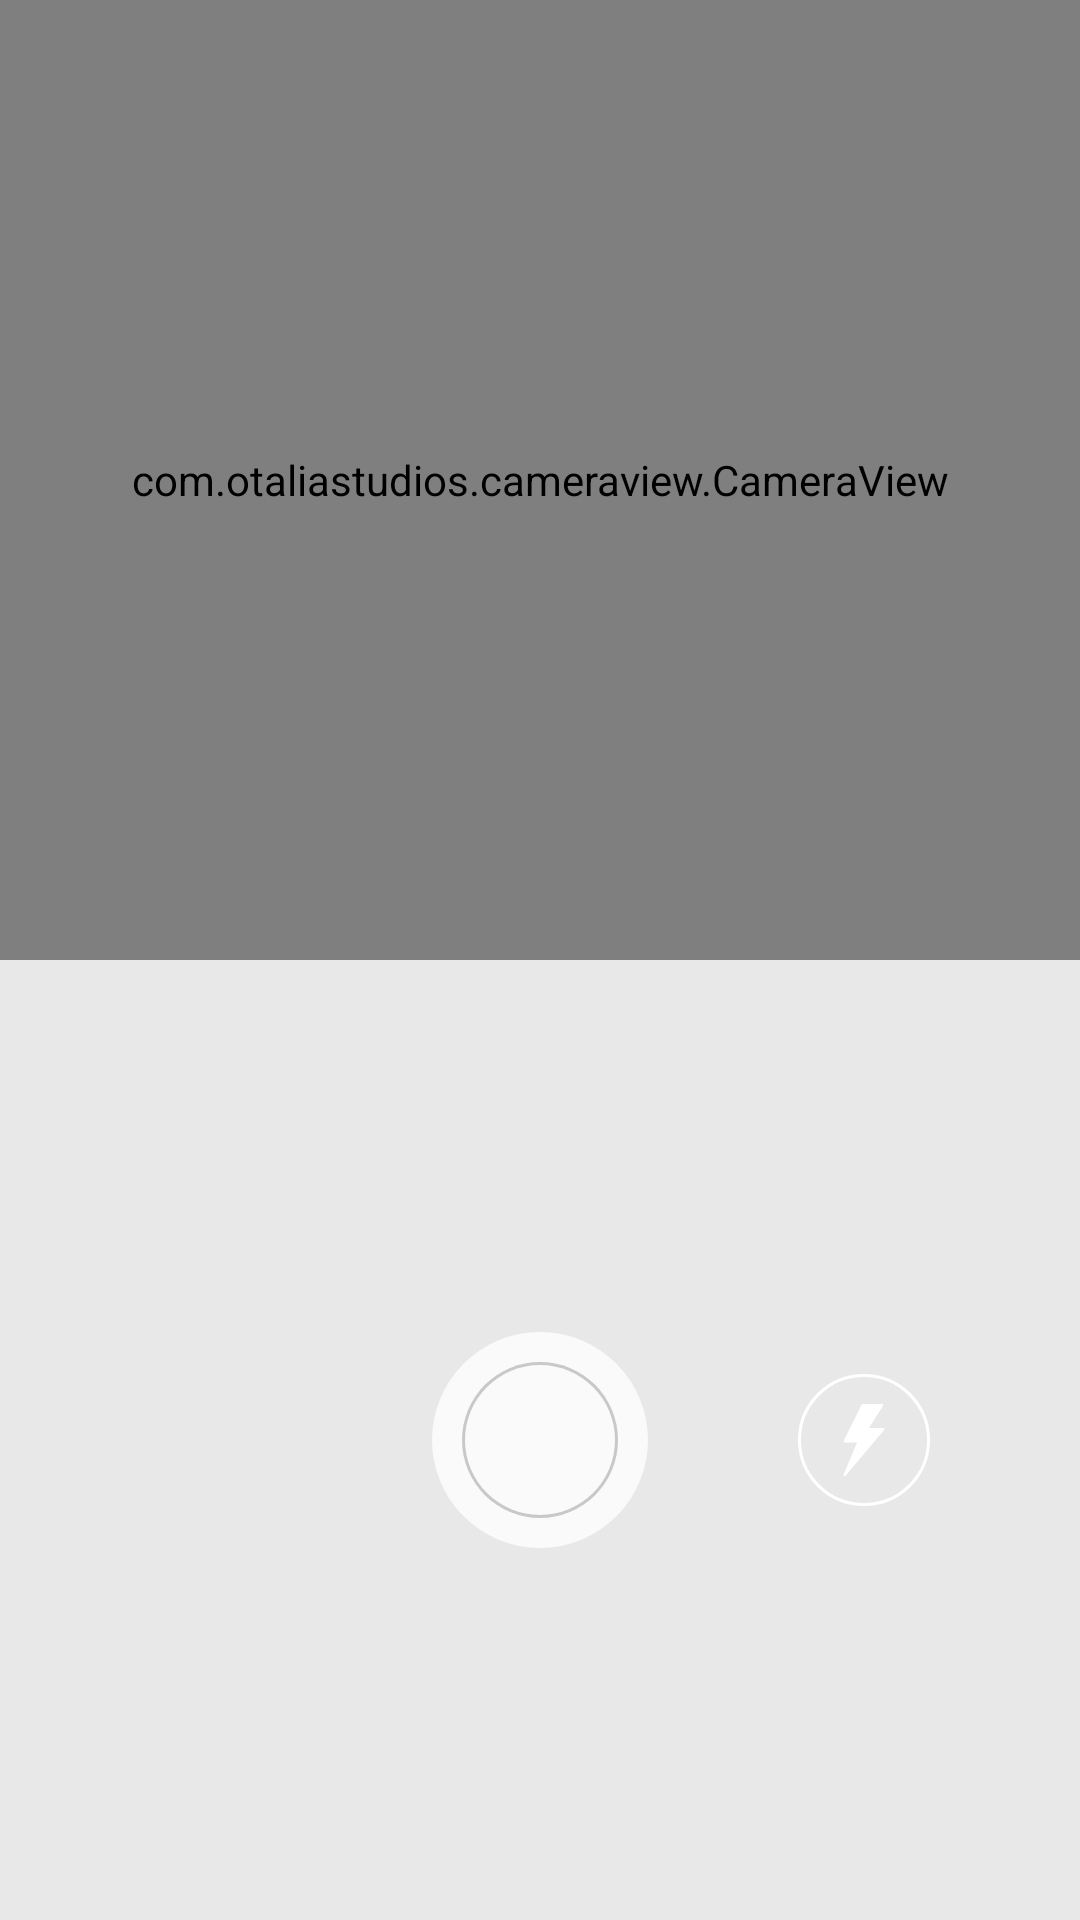

Point at icon controls on the screen. Image size 1080 x 1920, points as (x,y).
anim take photo: (540,1440)
